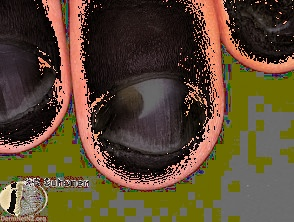Nail_psoriasis: (77, 57, 223, 181), (0, 25, 67, 142), (218, 0, 294, 61)
